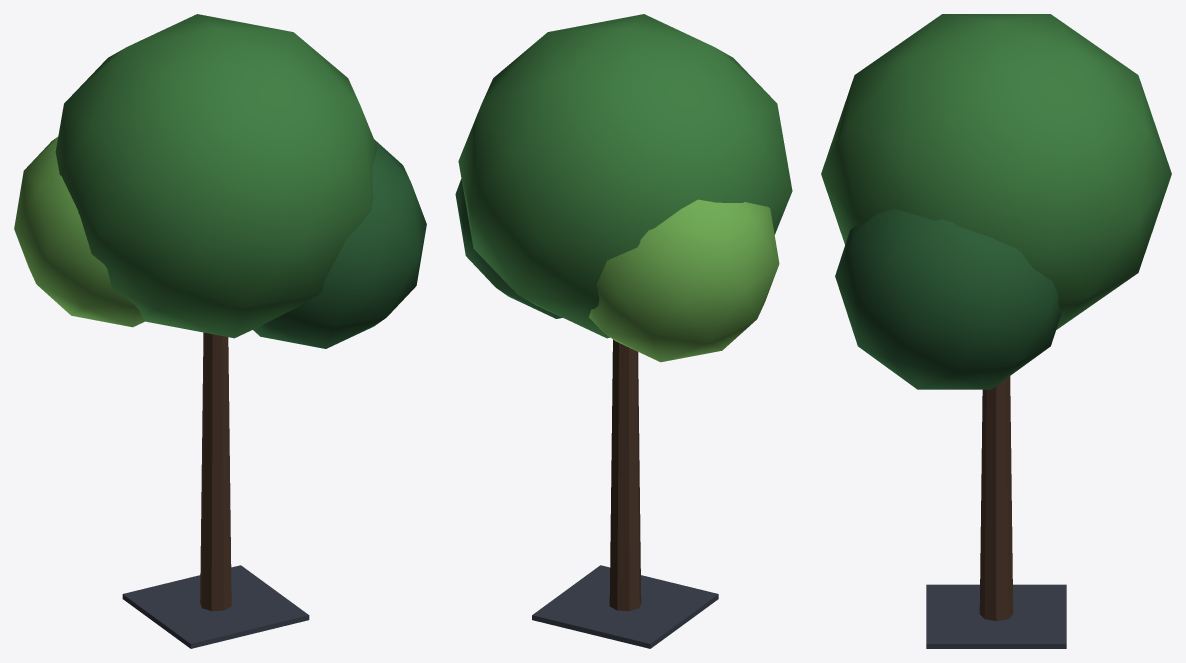
The model's file is street_tree.glb.
The picture shows the model from 3 angles, left to right: view 1: azimuth 30°, elevation 25°; view 2: azimuth 150°, elevation 25°; view 3: azimuth 270°, elevation 25°; orthographic projection. The views are drawn at different scales.
Parts seen in each view (by area): view 1: street_tree; view 2: street_tree; view 3: street_tree.
Boxes of the visible parts, x1,y1,x2,y2 form: street_tree: (14, 14, 426, 648); street_tree: (455, 14, 792, 648); street_tree: (821, 14, 1171, 648).
Size of the model in its own units: 2.82 by 4.69 by 2.5.
1 material, 1 textured.
